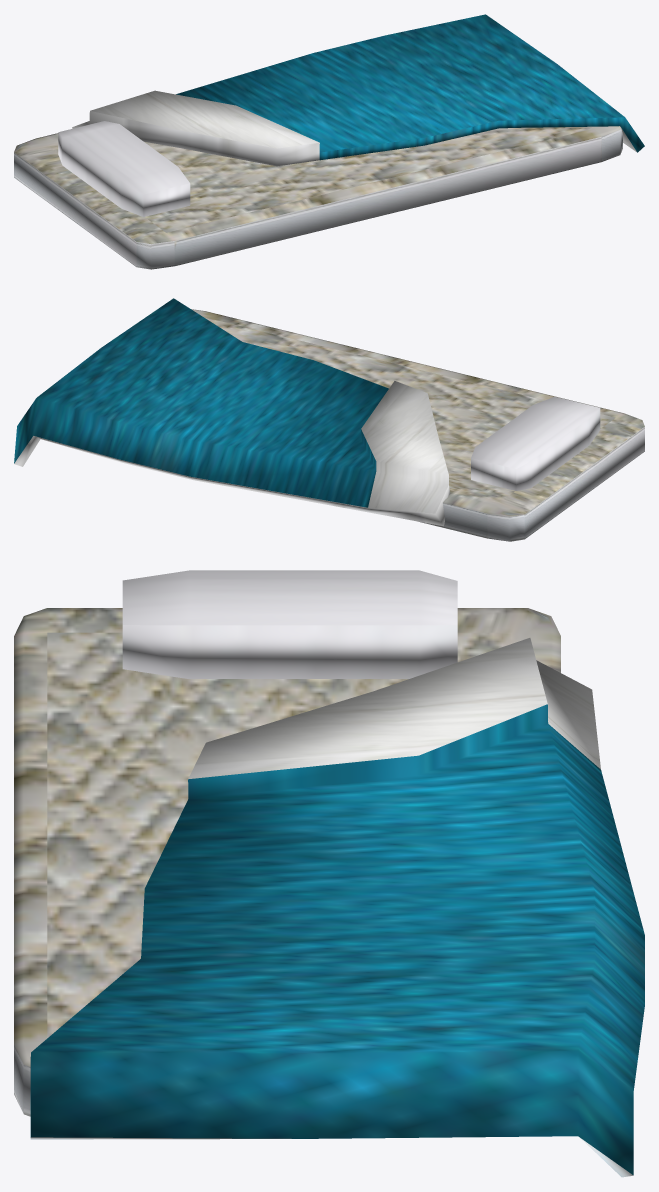
File: bed.fbx
The picture shows the model from 3 angles, top to bottom: view 1: azimuth 30°, elevation 25°; view 2: azimuth 150°, elevation 25°; view 3: azimuth 270°, elevation 25°; orthographic projection. The views are drawn at different scales.
Parts seen in each view (by area): view 1: Plane.001, Cube, Cube.001; view 2: Plane.001, Cube, Cube.001; view 3: Plane.001, Cube, Cube.001.
Boxes of the visible parts, box(x1,y1,x2,y2) form: Plane.001: box(72, 14, 644, 166); Cube: box(14, 126, 622, 269); Cube.001: box(58, 121, 190, 216); Plane.001: box(14, 298, 450, 526); Cube: box(191, 309, 644, 541); Cube.001: box(471, 396, 600, 490); Plane.001: box(30, 638, 644, 1177); Cube: box(14, 608, 560, 1116); Cube.001: box(122, 570, 457, 678).
Bounding box in the file's own units: 420 × 64.93 × 231.
